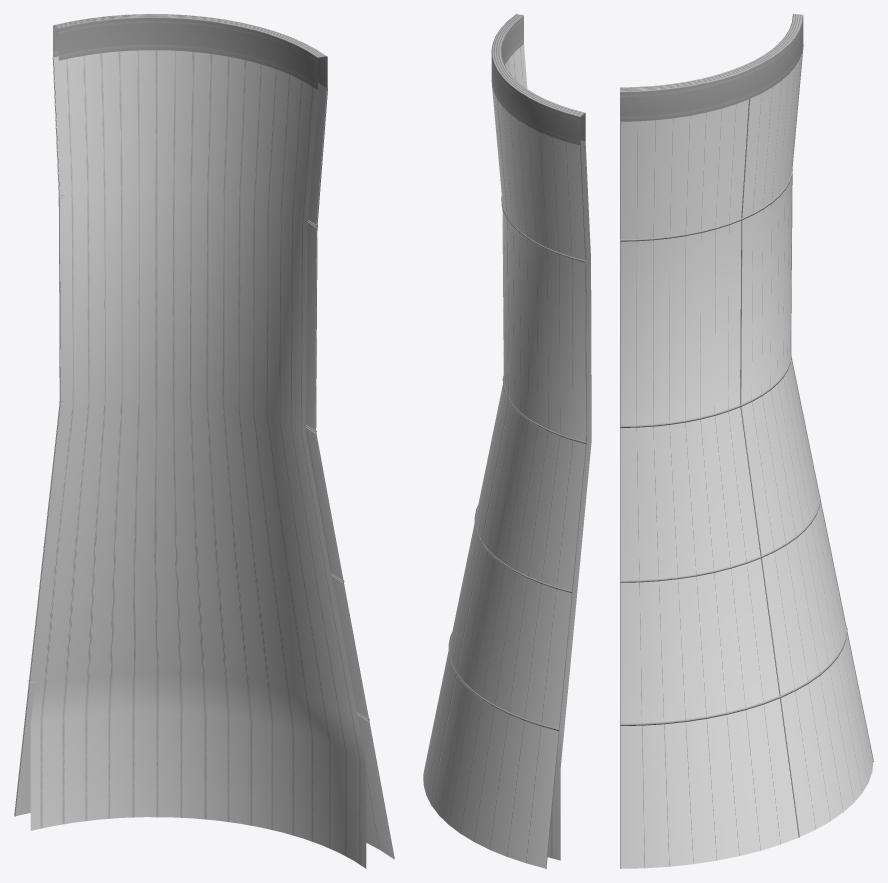
File: SM_CoolantTower_LSE_Corner.fbx
3 renders of one model, left to right at view 1: azimuth 30°, elevation 25°; view 2: azimuth 150°, elevation 25°; view 3: azimuth 270°, elevation 25°, orthographic. The views are drawn at different scales.
Parts seen in each view (by area): view 1: CoolantTower_Corner, CoolantTower_Corner_1; view 2: CoolantTower_Corner, CoolantTower_Corner_1, CoolantTower_Corner_0; view 3: CoolantTower_Corner, CoolantTower_Corner_1, CoolantTower_Corner_0.
Part boxes in pixels (box(x1,y1,x2,y2)): CoolantTower_Corner: box(14, 14, 394, 868); CoolantTower_Corner_1: box(14, 57, 394, 859); CoolantTower_Corner: box(423, 14, 591, 868); CoolantTower_Corner_1: box(431, 99, 586, 868); CoolantTower_Corner_0: box(448, 196, 586, 731); CoolantTower_Corner: box(620, 14, 873, 868); CoolantTower_Corner_1: box(620, 44, 873, 868); CoolantTower_Corner_0: box(620, 167, 847, 725).
Size of what is drawn, in the model's own units: 3106 by 10122 by 3106.
